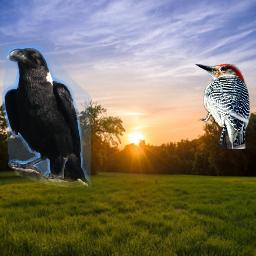Crow: (2, 45, 91, 187)
Woodpecker: (192, 59, 253, 149)
